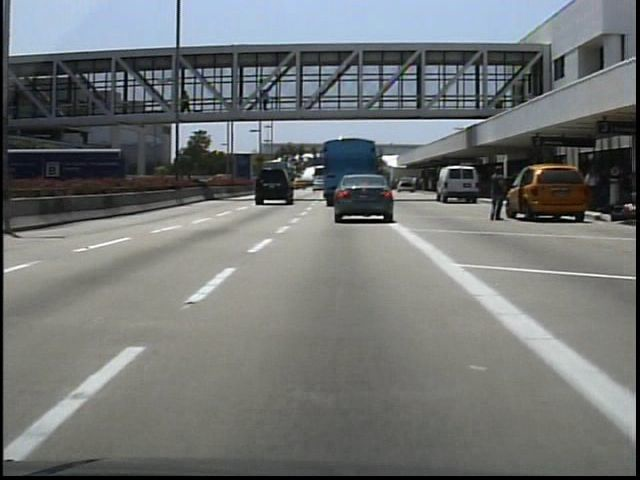person: (486, 163, 511, 225), (259, 88, 275, 119), (180, 89, 195, 116)
